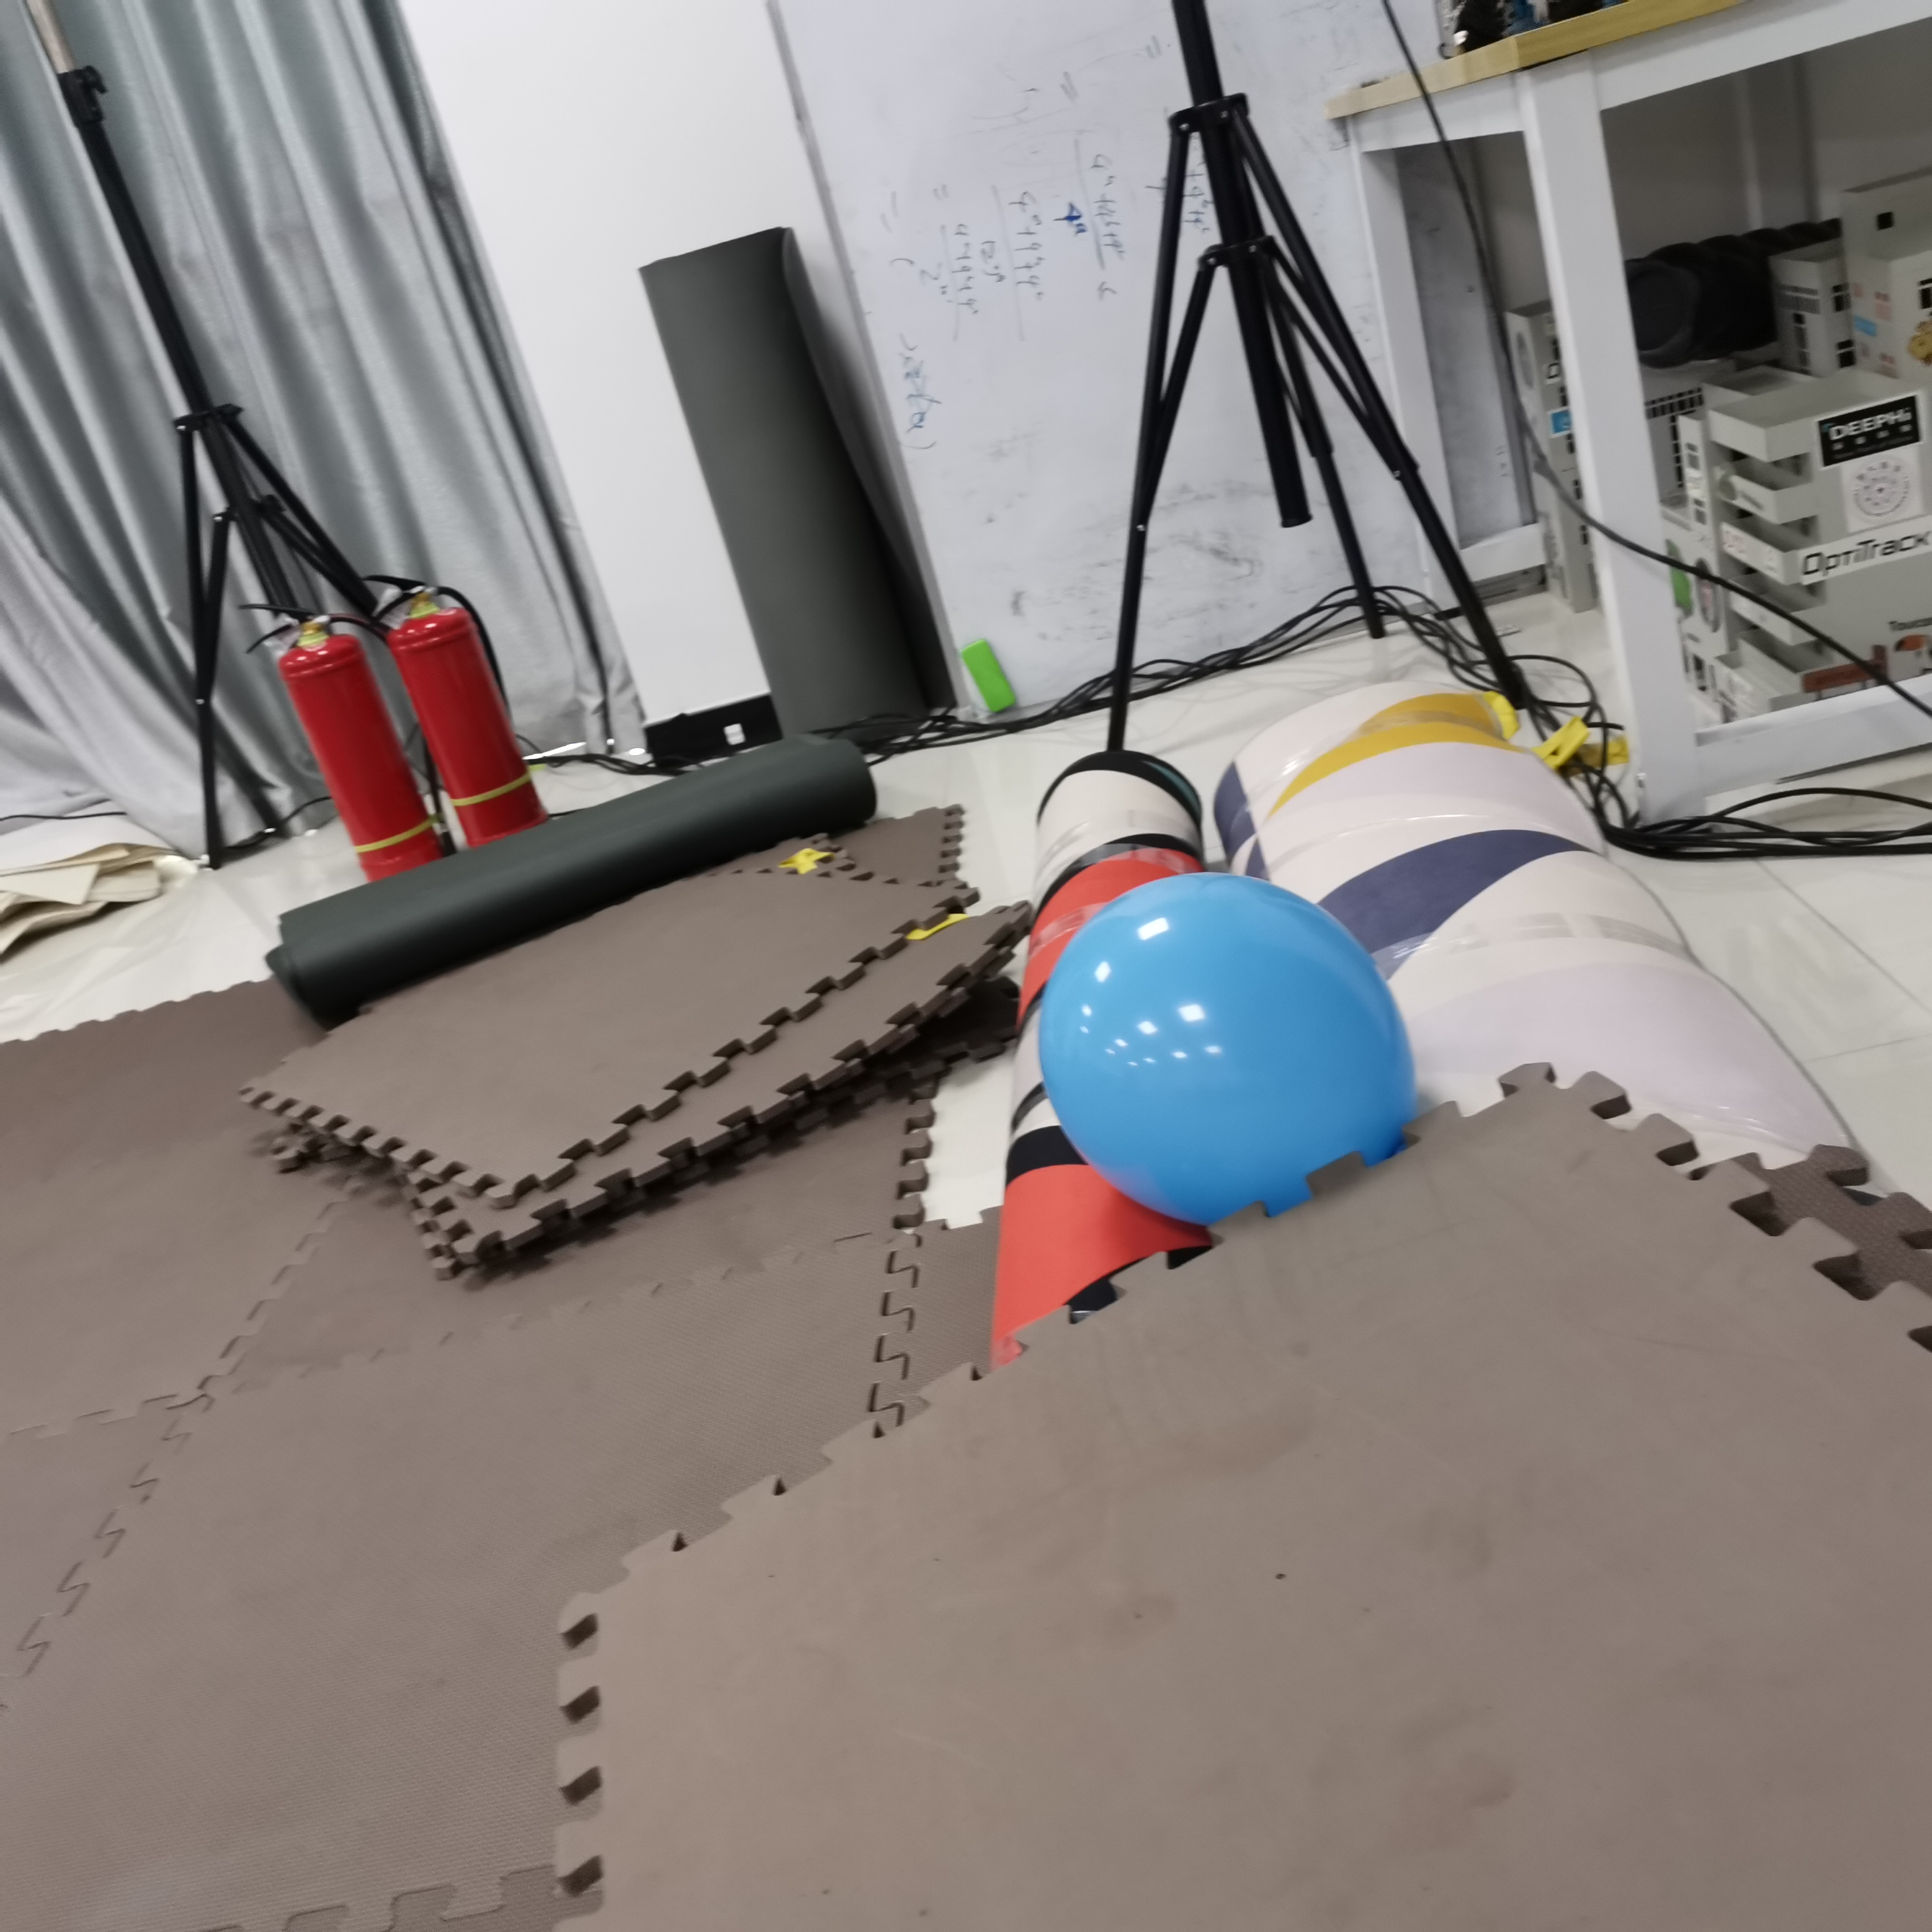balloon: (1040, 874, 1419, 1224)
